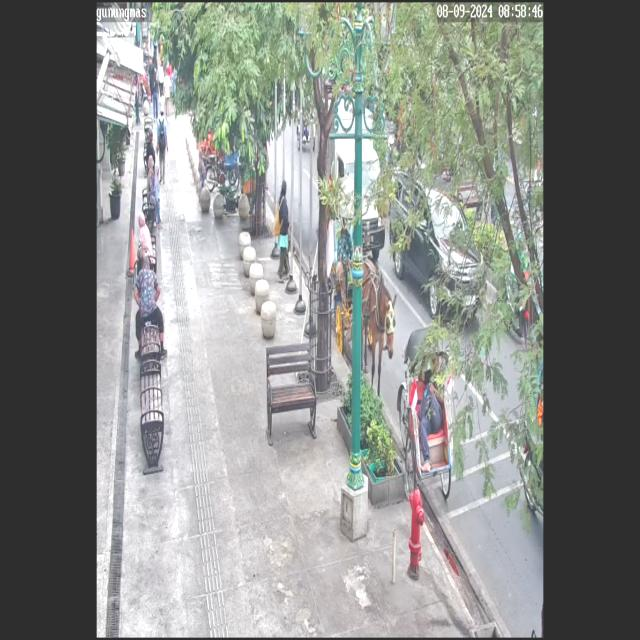Car: (389, 157, 487, 331)
Truck: (324, 106, 389, 266)
